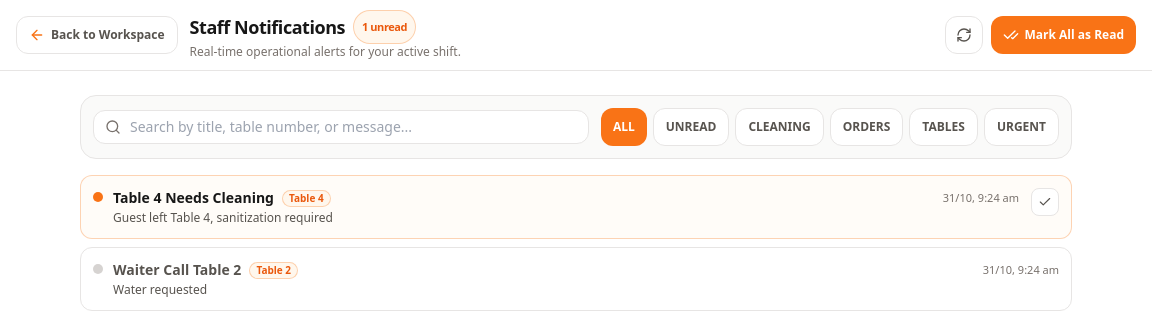
Test: Cleaner Station History & Notification Parity › 2. StaffNotificationsView fetches and displays categorized notifications correctly
Expected: the text "Staff Notifications" is shown, [190,13,345,41]
Expected: the heading "Table 4 Needs Cleaning" is shown, [113,188,274,208]
Filter by CLEANING
Click the button "CLEANING" at (780, 127), box [735,108,824,146]
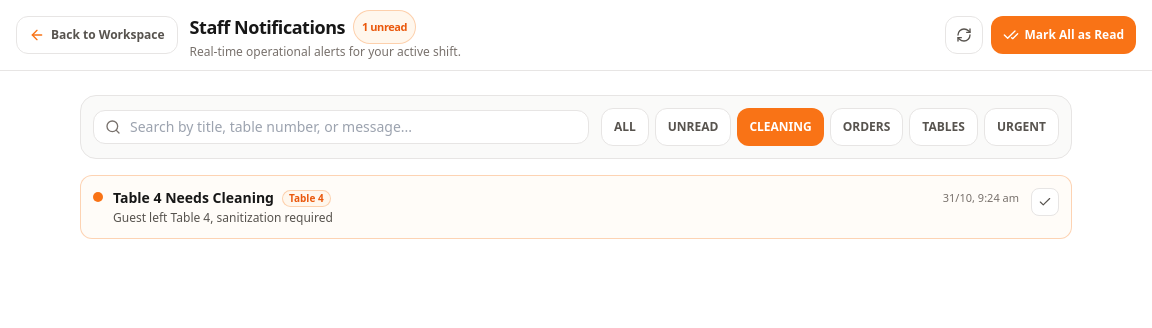
Expected: the heading "Table 4 Needs Cleaning" is shown, [113,188,274,208]
Now the heading "Waiter Call Table 2" is gone
